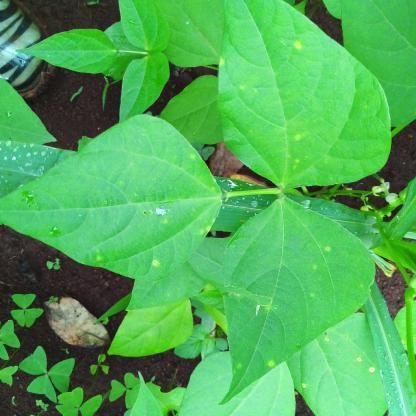Beans_Rust: (0, 118, 218, 272), (216, 0, 395, 187), (222, 204, 376, 404), (297, 311, 388, 416)
